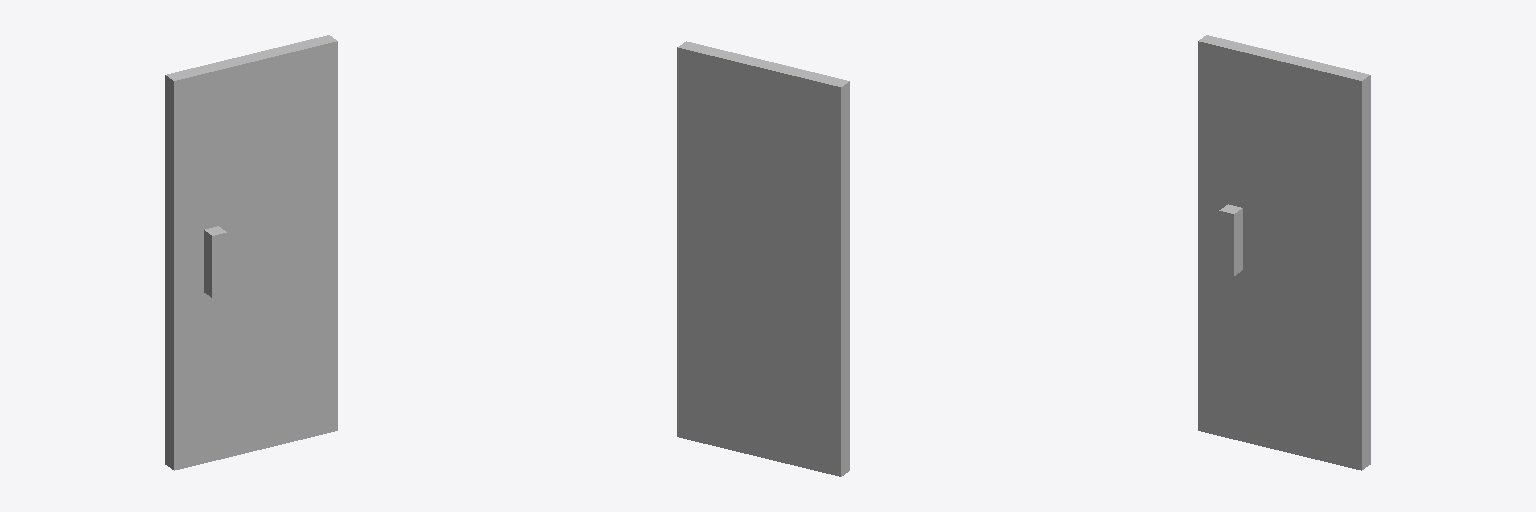
File: door_fixed.obj
The picture shows the model from 3 angles: view 1: azimuth 30°, elevation 25°; view 2: azimuth 150°, elevation 25°; view 3: azimuth 330°, elevation 25°; orthographic projection.
Visible parts, largest first — view 1: Untitled; view 2: Untitled; view 3: Untitled.
Boxes of the visible parts, x1=… form: Untitled: x1=165, y1=35, x2=337, y2=470; Untitled: x1=677, y1=41, x2=849, y2=476; Untitled: x1=1198, y1=35, x2=1370, y2=470.
Size of the model in its own units: 1.1 by 2.5 by 0.2.